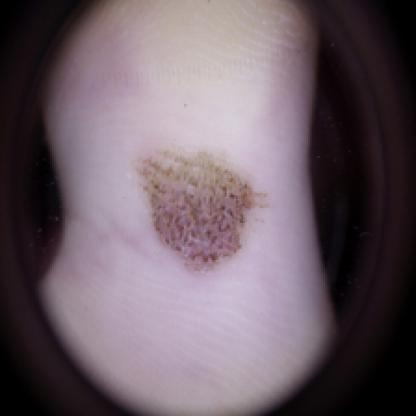benign: (125, 128, 271, 275)
